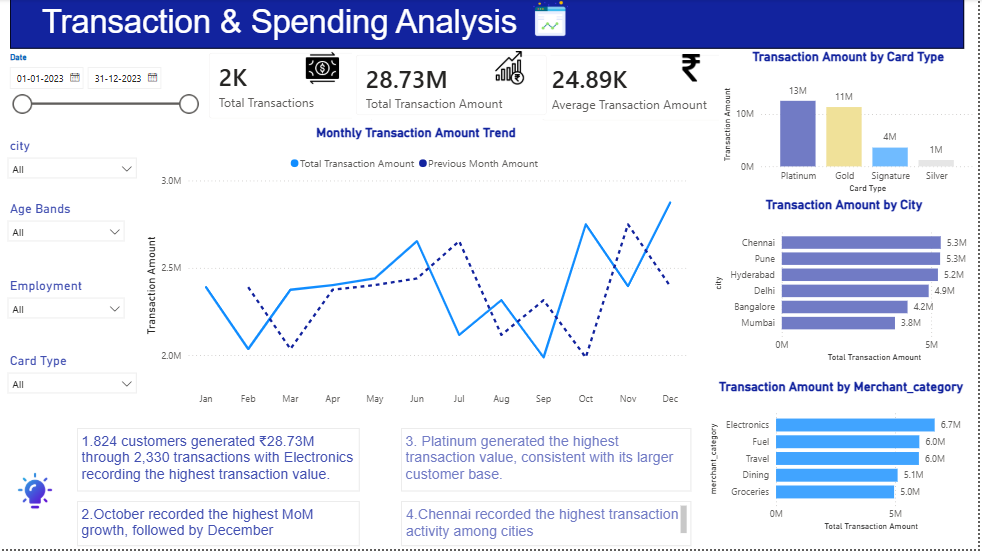

What the dashboard file says about the page in this screenshot:
{"tool":"powerbi","page":{"name":"Transaction Analysi","canvas":[1280,720],"ordinal":2},"visuals":[{"type":"textbox","box":[13.1,0,1248.9,65.5],"z":0},{"type":"image","box":[617.8,0,205.9,51.5],"z":1000},{"type":"cardVisual","fields":{"Data":["Transactions.Total Transaction Amount"]},"box":[480.3,144.5,234,96.3],"z":2000},{"type":"cardVisual","fields":{"Data":["Transactions.Average Transaction Amount"]},"box":[704.7,67.4,249.1,96.3],"z":3000},{"type":"slicer","title":"DATE","fields":{"Values":["DateTable.Date"]},"box":[0,66.1,268.4,90.8],"z":4000},{"type":"cardVisual","fields":{"Data":["Transactions.Total Transactions"]},"box":[268.4,66.1,202.3,96.3],"z":5000},{"type":"lineChart","title":"Monthly Transaction Amount Trend","fields":{"Category":["DateTable.Month"],"Y":["Transactions.Total Transaction Amount","Transactions.Previous Month Amount"]},"box":[184.4,159.7,719.8,382.6],"z":6000},{"type":"clusteredColumnChart","title":"Transaction Amount by Card Type","fields":{"Category":["Transactions.Card Type"],"Y":["Transactions.Total Transaction Amount"]},"box":[941.4,66.1,338.6,192.7],"z":7000},{"type":"clusteredBarChart","title":"Transaction Amount  by Merchant_category","fields":{"Category":["Transactions.merchant_category"],"Y":["Transactions.Total Transaction Amount"]},"box":[923.5,496.9,356.5,203.7],"z":8000},{"type":"clusteredBarChart","title":"Transaction Amount  by City","fields":{"Y":["Transactions.Total Transaction Amount"],"Category":["Customers.city"]},"box":[929,258.8,351,220.2],"z":9000},{"type":"slicer","fields":{"Values":["Customers.city"]},"box":[0,176.2,188.8,82.9],"z":10000},{"type":"slicer","fields":{"Values":["Customers.Age Bands"]},"box":[0,258.8,173.1,84.4],"z":11000},{"type":"slicer","fields":{"Values":["Customers.Employment"]},"box":[0,360.6,173.1,84.4],"z":12000},{"type":"slicer","fields":{"Values":["Transactions.Card Type"]},"box":[0,458.3,188.8,84.4],"z":13000},{"type":"image","box":[13.8,619.4,62.9,48.6],"z":14000},{"type":"image","box":[373,66.1,97.7,49.5],"z":16000},{"type":"image","box":[879.5,71.6,49.5,35.8],"z":17000},{"type":"textbox","box":[524.4,656.5,379.9,59.2],"z":18000},{"type":"textbox","box":[100.5,561.5,370.2,82.6],"z":19000},{"type":"textbox","box":[100.5,656.5,370.2,59.2],"z":20000},{"type":"cardVisual","fields":{"Data":["Transactions.Total Transaction Amount"]},"box":[461.1,67.4,260.1,89.5],"z":21000},{"type":"textbox","box":[524.4,561.5,379.9,82.6],"z":22000},{"type":"image","box":[640,67.4,53.7,44],"z":22500}]}

Visuals, with their boxes in screenshot pixels (x1, y1, x2, y2), scaled from the page's 1280x720 canvas onto the 982x553 screenshot:
textbox: <region>10, 0, 968, 50</region>
image: <region>474, 0, 632, 40</region>
cardVisual - Transactions.Total Transaction Amount: <region>368, 111, 548, 185</region>
cardVisual - Transactions.Average Transaction Amount: <region>541, 52, 732, 126</region>
"DATE" slicer: <region>0, 51, 206, 121</region>
cardVisual - Transactions.Total Transactions: <region>206, 51, 361, 125</region>
"Monthly Transaction Amount Trend" lineChart: <region>141, 123, 694, 417</region>
"Transaction Amount by Card Type" clusteredColumnChart: <region>722, 51, 981, 199</region>
"Transaction Amount  by Merchant_category" clusteredBarChart: <region>708, 382, 981, 538</region>
"Transaction Amount  by City" clusteredBarChart: <region>713, 199, 981, 368</region>
slicer - Customers.city: <region>0, 135, 145, 199</region>
slicer - Customers.Age Bands: <region>0, 199, 133, 264</region>
slicer - Customers.Employment: <region>0, 277, 133, 342</region>
slicer - Transactions.Card Type: <region>0, 352, 145, 417</region>
image: <region>11, 476, 59, 513</region>
image: <region>286, 51, 361, 89</region>
image: <region>675, 55, 713, 82</region>
textbox: <region>402, 504, 694, 550</region>
textbox: <region>77, 431, 361, 495</region>
textbox: <region>77, 504, 361, 550</region>
cardVisual - Transactions.Total Transaction Amount: <region>354, 52, 553, 121</region>
textbox: <region>402, 431, 694, 495</region>
image: <region>491, 52, 532, 86</region>
